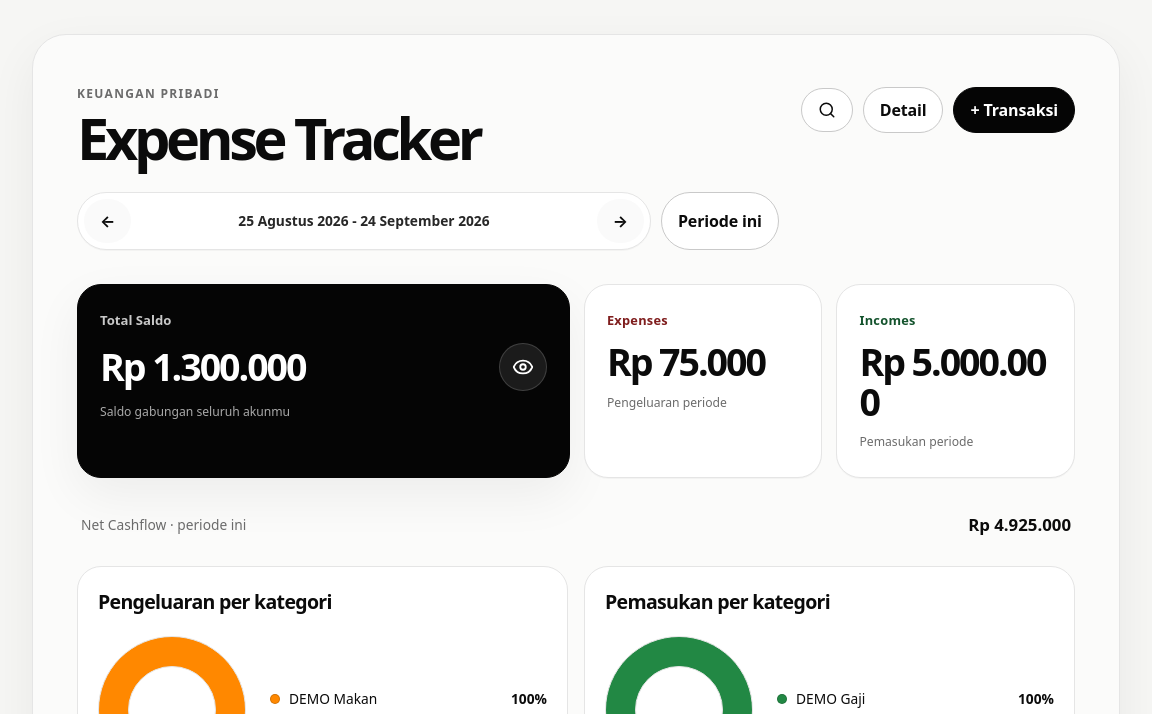
Scenario: React finance frontend › keeps global search across all periods while local list stays period-scoped
The image size is (1152, 714).
Click the button named "Cari transaksi global".
click(827, 110)  # box [801,88,853,132]
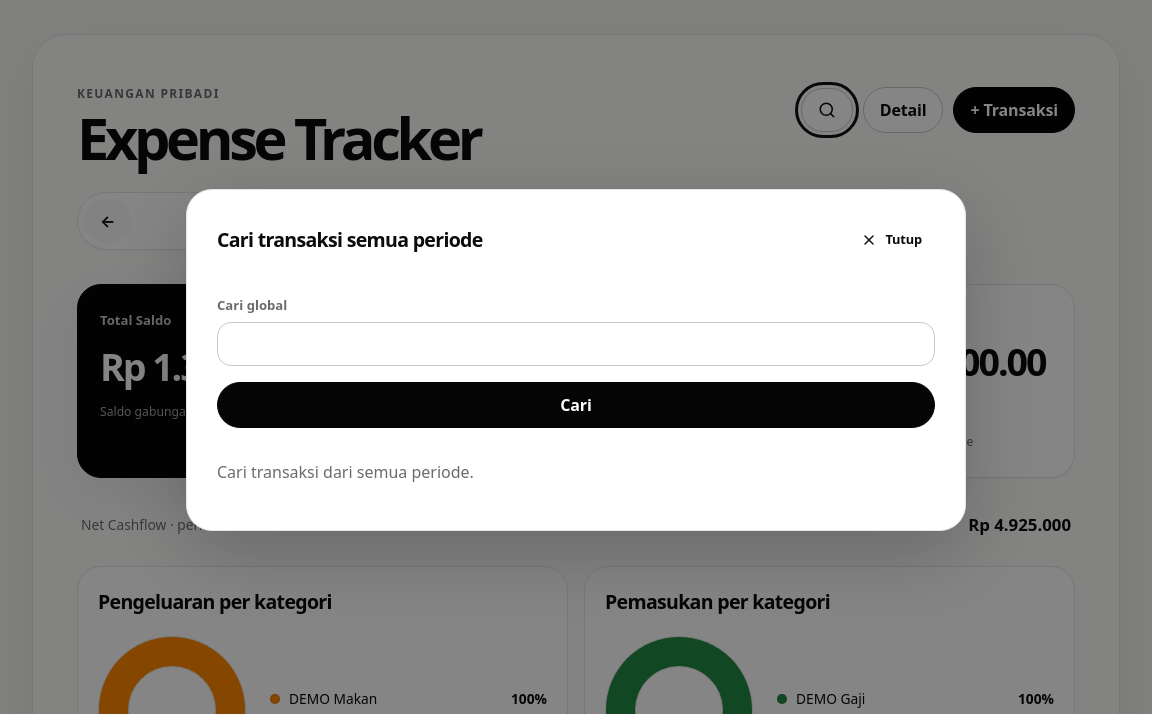
Type "DEMO" into the search field labelled "Cari global".
click(576, 344); type("DEMO")  # box [217,322,935,366]
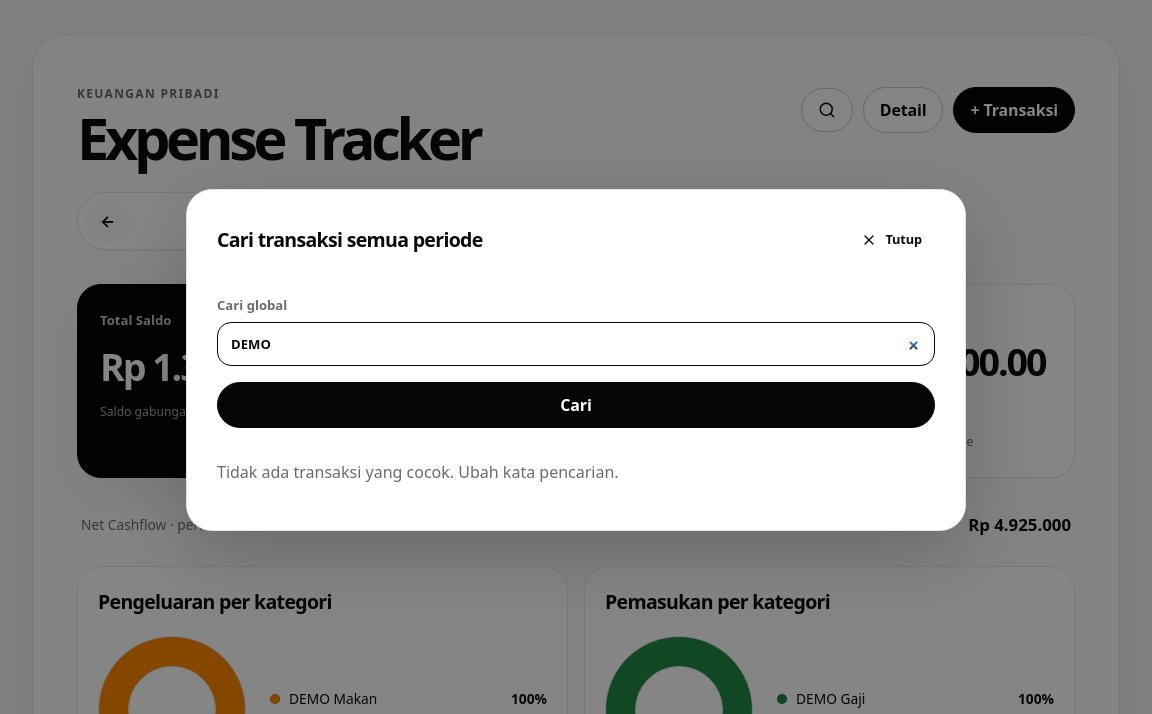
Click the button "Cari".
click(576, 405)  # box [217,382,935,428]
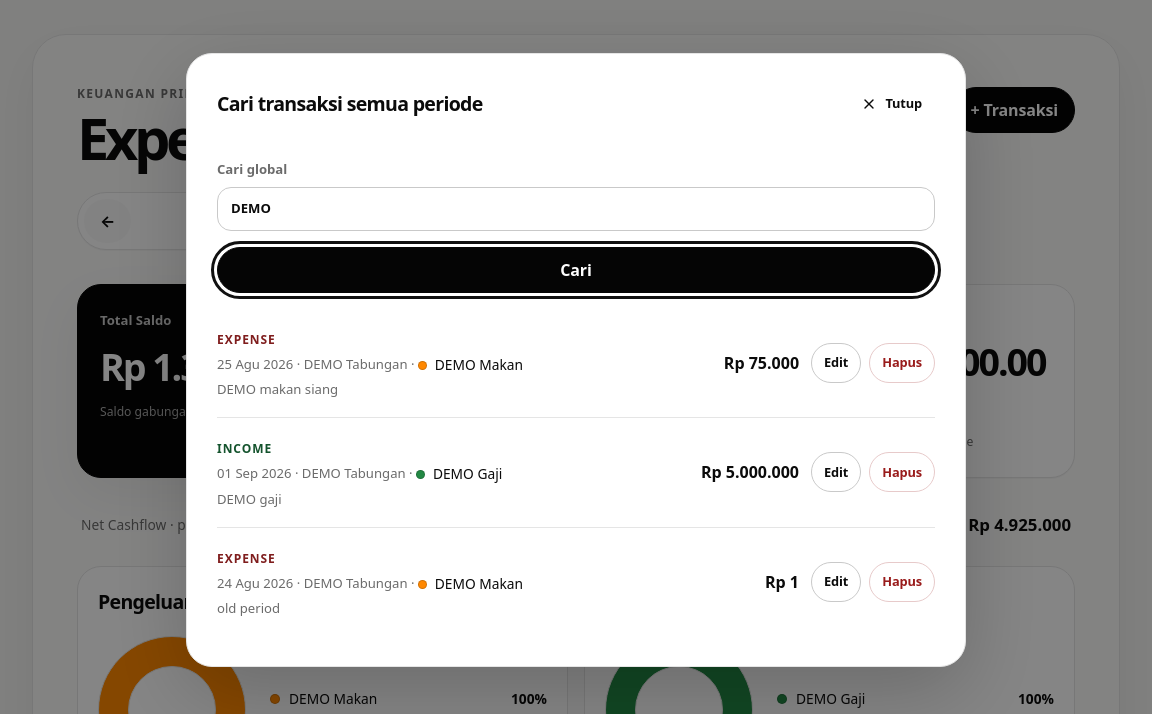
Now the text "old period" is shown, box [217,599,280,617]
